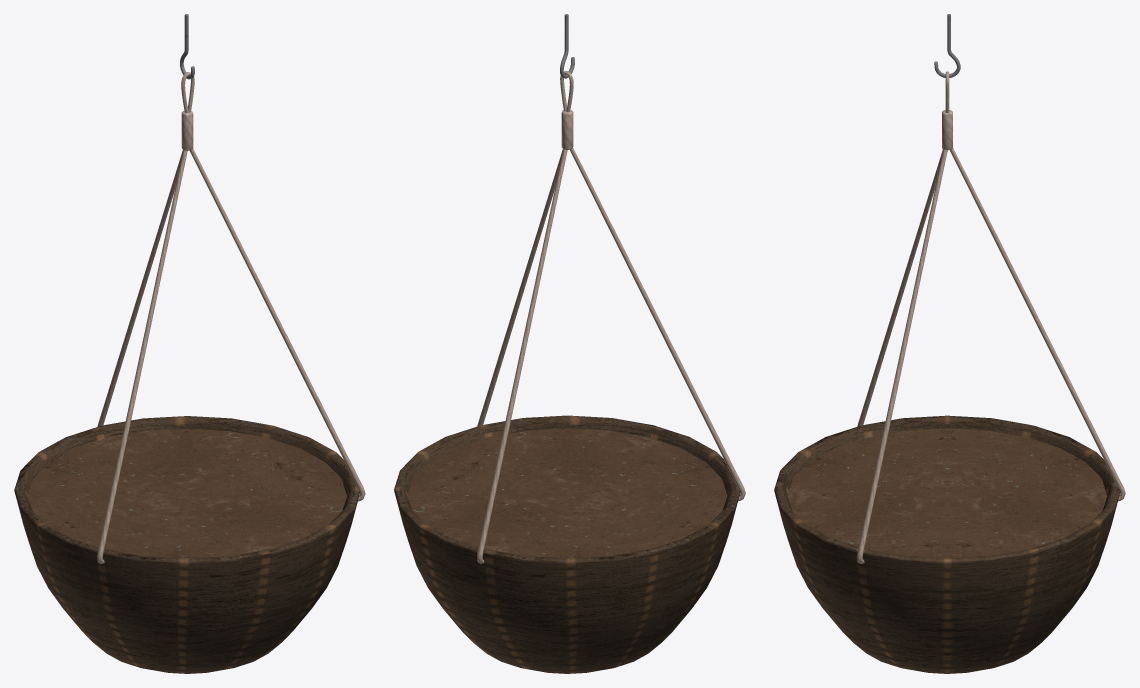
The model's file is GardenPot04_2.FBX.
3 renders of one model, left to right at view 1: azimuth 30°, elevation 25°; view 2: azimuth 150°, elevation 25°; view 3: azimuth 270°, elevation 25°, orthographic.
Visible parts, largest first — view 1: GardenPot04_2; view 2: GardenPot04_2; view 3: GardenPot04_2.
Boxes of the visible parts, left/top/right/bottom form: GardenPot04_2: left=14, top=14, right=365, bottom=673; GardenPot04_2: left=394, top=14, right=745, bottom=673; GardenPot04_2: left=774, top=14, right=1125, bottom=673.
Size of what is drawn, in the model's own units: 0.5757 by 1.17 by 0.5841.
